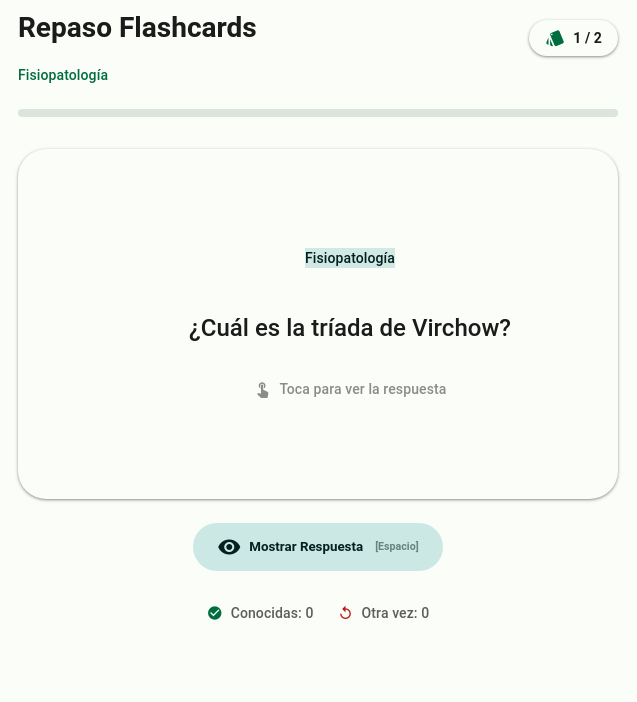
Test: V2FlashcardStudy › reveals answer when flip button is clicked
# Wait for the flip button
Click the button "Mostrar Respuesta [Espacio]". click: (318, 546)
box: [193,522,443,570]
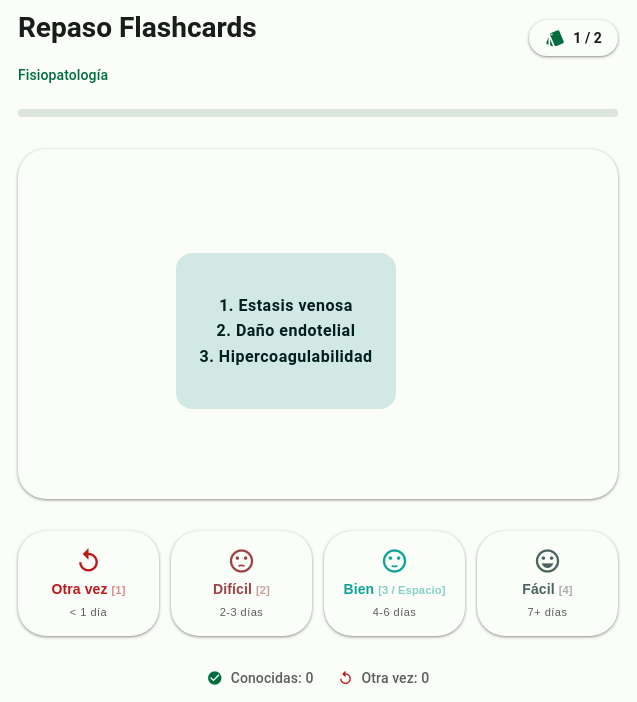
Now the text "Otra vez" is shown, box [52,580,108,596]
Now the text "Difícil" is shown, box [213,580,252,596]
Now the text "Bien" is shown, box [344,580,374,596]
